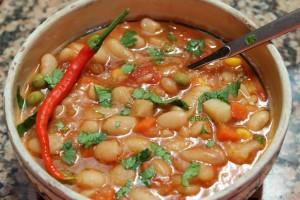RajmaCurry: (15, 21, 278, 200)
